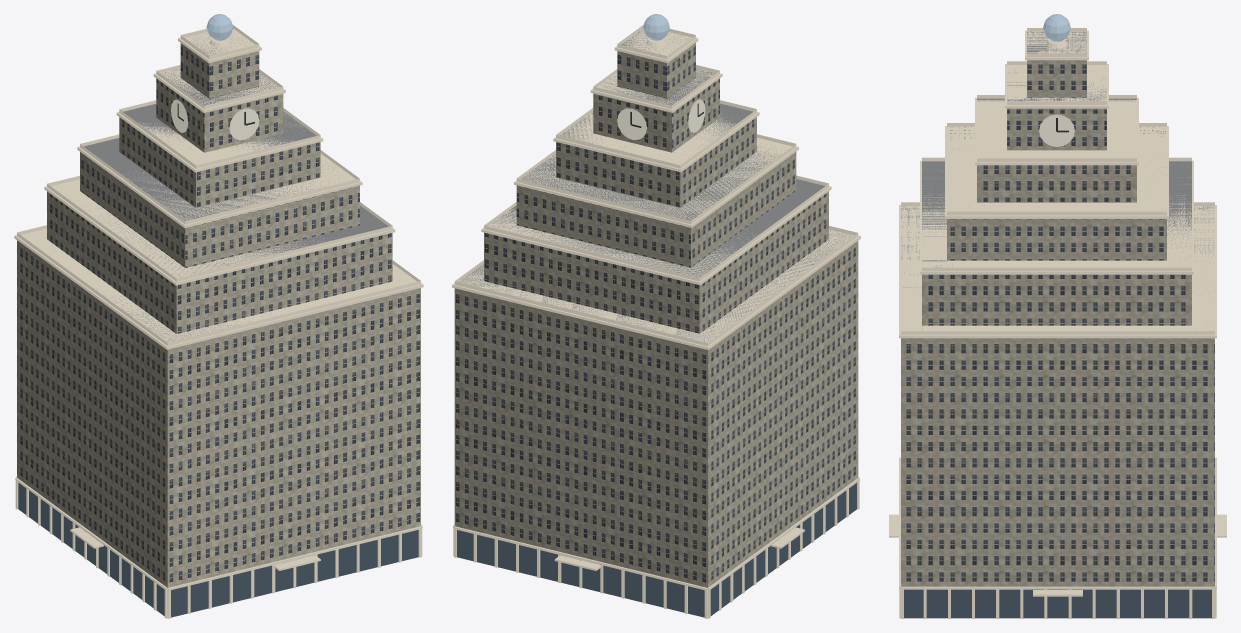
The model's file is paramount_building.glb.
The picture shows the model from 3 angles, left to right: view 1: azimuth 30°, elevation 25°; view 2: azimuth 150°, elevation 25°; view 3: azimuth 270°, elevation 25°; orthographic projection. The views are drawn at different scales.
Visible parts, largest first — view 1: paramount_building; view 2: paramount_building; view 3: paramount_building.
Boxes of the visible parts, x1=… form: paramount_building: x1=14, y1=14, x2=423, y2=618; paramount_building: x1=452, y1=14, x2=860, y2=618; paramount_building: x1=889, y1=14, x2=1226, y2=618.
Size of the model in its own units: 65.8 by 119 by 67.6.
2 materials, 2 textured.
